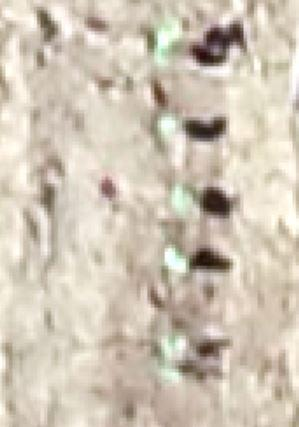cotton: (172, 187, 195, 214), (157, 30, 179, 53), (166, 250, 186, 271), (163, 336, 190, 350), (161, 115, 174, 131), (163, 370, 179, 383)
